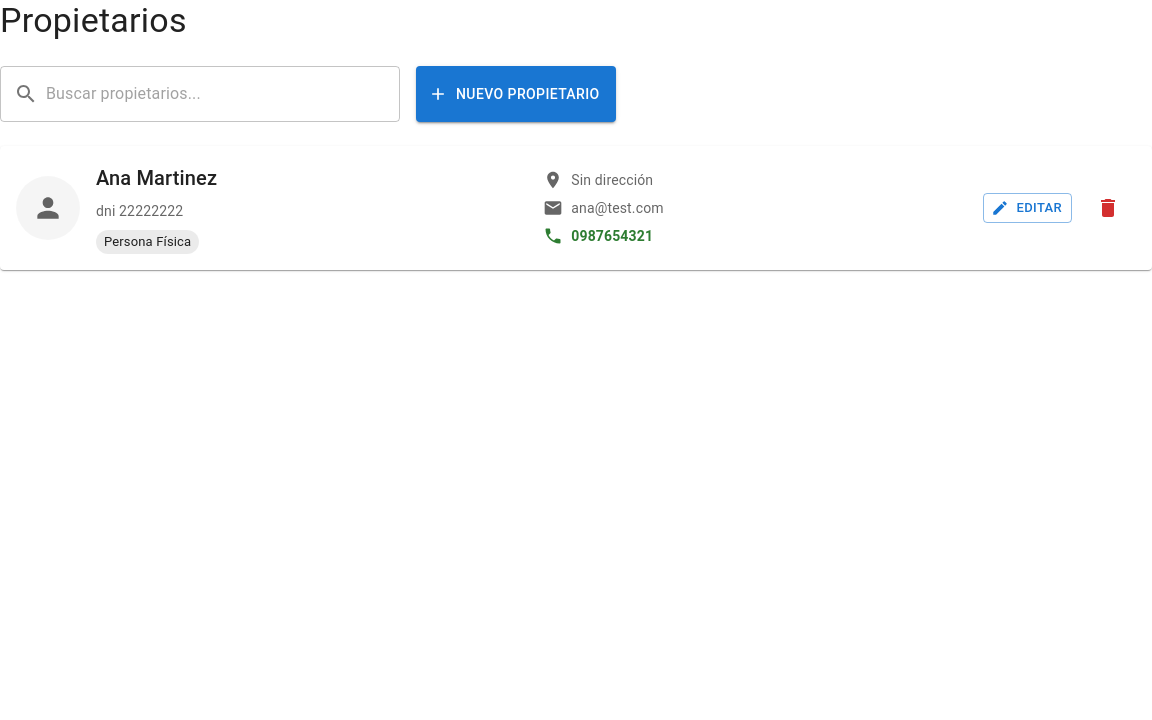
it: PropietariosPage Component › opens delete confirmation and deletes record when confirmed
Check: the heading "Ana Martinez" is shown, box left=96, top=166, right=217, bottom=190
Click the button named "eliminar ana martinez": (1108, 208) left=1088, top=188, right=1128, bottom=228
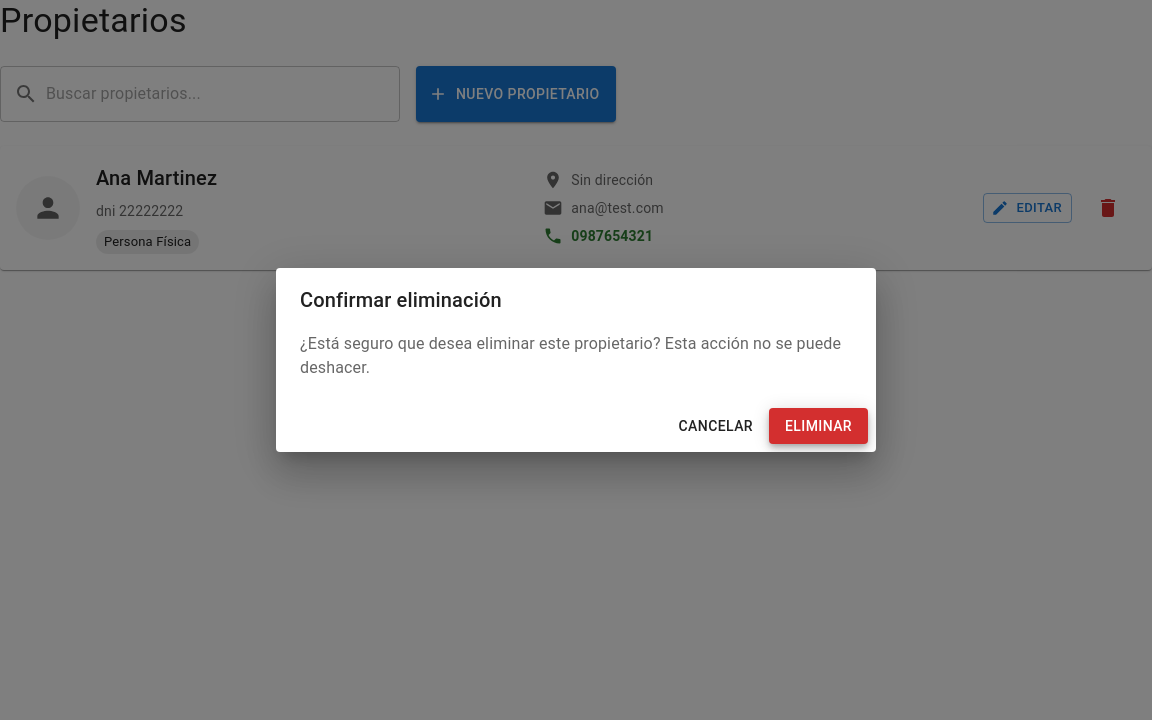
Check: the dialog "Confirmar eliminación" is shown, box left=276, top=268, right=876, bottom=452
Click the button "Eliminar": (818, 426) left=769, top=408, right=868, bottom=444
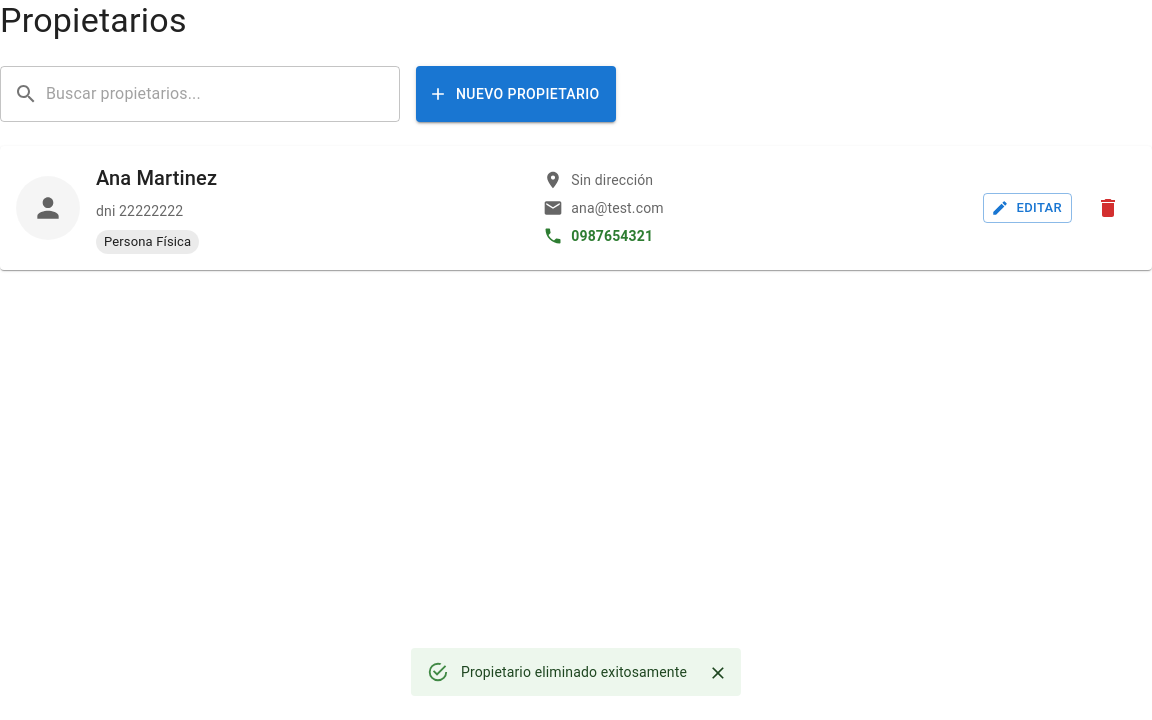
Check: the text "Propietario eliminado exitosamente" is shown, box left=461, top=664, right=687, bottom=680
